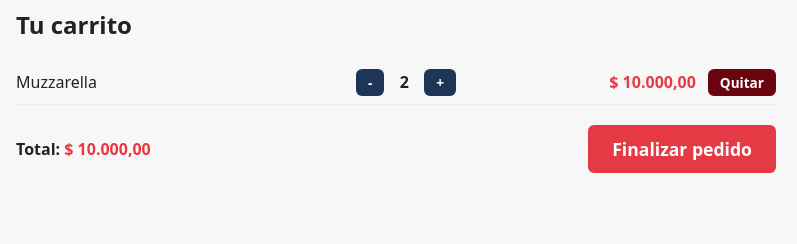
Test: <CartPage> › muestra error si el checkout falla
Click the button "Finalizar pedido".
click(682, 149)  # box [588,125,776,173]
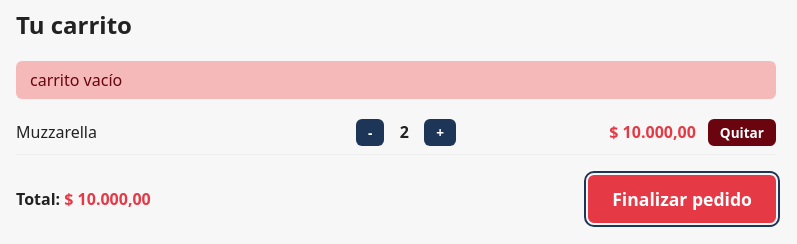
Expected: the text "carrito vacío" is shown, [16,61,776,99]
